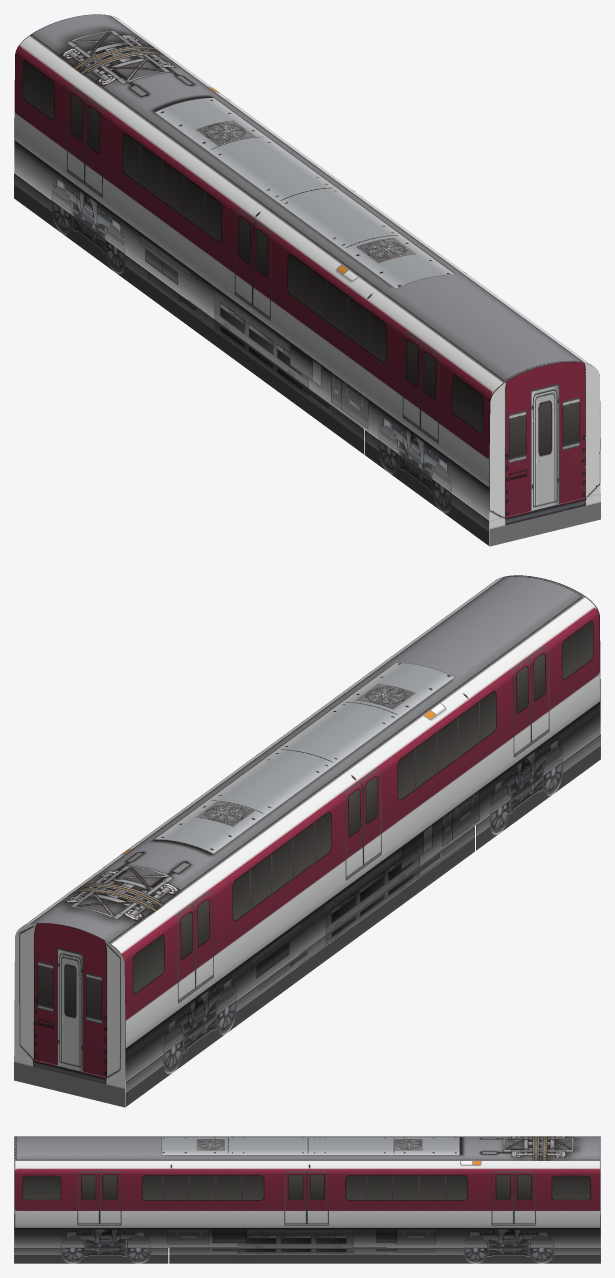
Rendered from car2.glb.
3 renders of one model, top to bottom at view 1: azimuth 30°, elevation 25°; view 2: azimuth 150°, elevation 25°; view 3: azimuth 270°, elevation 25°, orthographic. The views are drawn at different scales.
Visible parts, largest first — view 1: kintetsu-5200-car2; view 2: kintetsu-5200-car2; view 3: kintetsu-5200-car2.
Boxes of the visible parts, <box> form: kintetsu-5200-car2: <box>14,14,600,546</box>; kintetsu-5200-car2: <box>14,575,600,1107</box>; kintetsu-5200-car2: <box>14,1136,600,1263</box>.
Size of the model in its own units: 2.8 by 4.02 by 20.75.
Materials: 9 (8 with a texture image).
